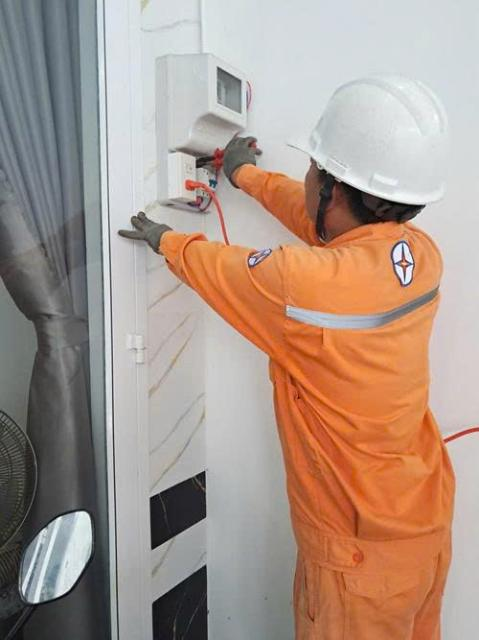gloves: (115, 203, 187, 248), (216, 124, 263, 186)
helmet: (281, 38, 456, 215)
